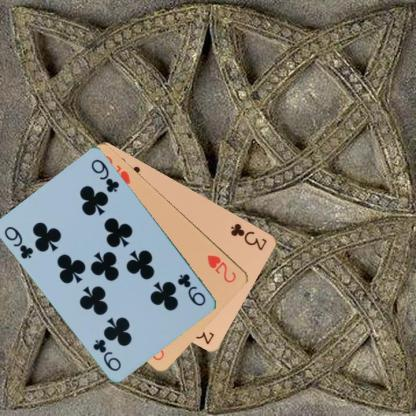2h: (205, 252, 238, 284)
3c: (228, 220, 269, 252)
9c: (2, 224, 35, 260), (175, 271, 207, 307)
